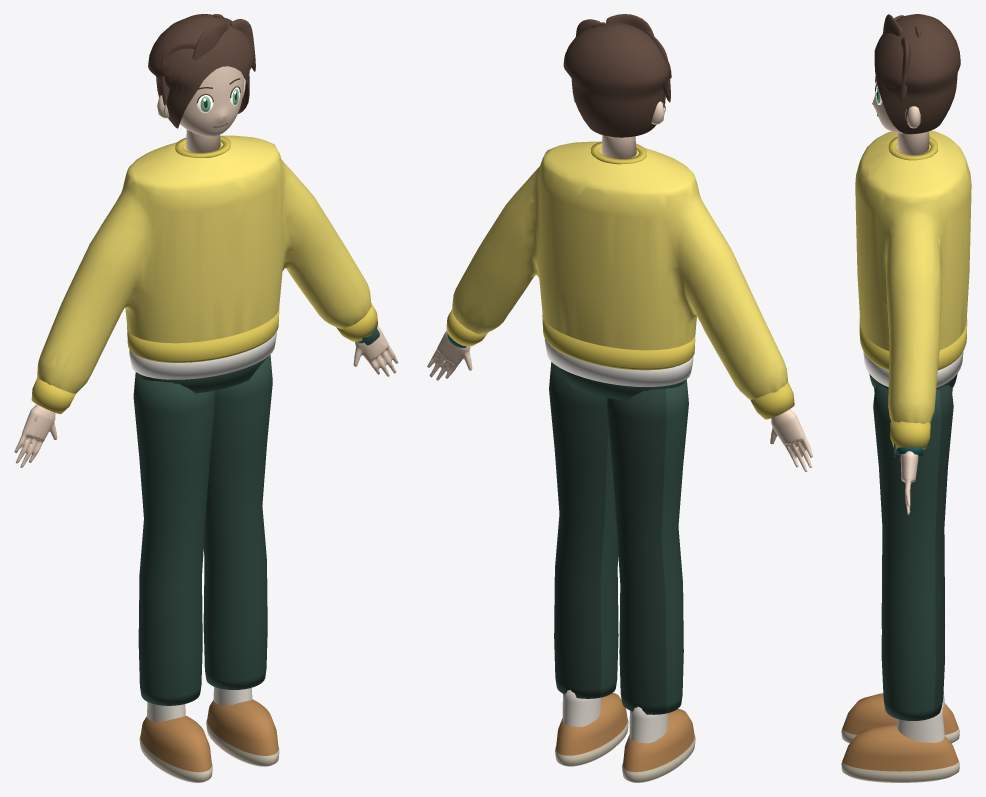
Rendered from walker-male-home-a-preview.glb.
3 renders of one model, left to right at view 1: azimuth 30°, elevation 25°; view 2: azimuth 150°, elevation 25°; view 3: azimuth 270°, elevation 25°, orthographic.
Visible parts, largest first — view 1: Outfit.Sweatshirt.ContinuousBodySleeves, Outfit.WideTrousers.-1, Outfit.WideTrousers.1, Hair.CrownAndBack, Foot.HouseMule.1, Foot.HouseMule.-1, Outfit.Sweatshirt.SoftHem, Head.FaceSculpt, Outfit.CottonInner, Hand.UnifiedFiveDigits.-1, Outfit.Trousers.Waist, Hand.UnifiedFiveDigits.1 (+3 smaller); view 2: Outfit.Sweatshirt.ContinuousBodySleeves, Outfit.WideTrousers.-1, Outfit.WideTrousers.1, Hair.CrownAndBack, Foot.HouseMule.-1, Foot.HouseMule.1, Outfit.Sweatshirt.SoftHem, Outfit.CottonInner, Hand.UnifiedFiveDigits.-1, Outfit.Trousers.Waist, Foot.Sock.-1, Foot.Sock.1 (+4 smaller); view 3: Outfit.Sweatshirt.ContinuousBodySleeves, Outfit.WideTrousers.1, Hair.CrownAndBack, Foot.HouseMule.1, Foot.HouseMule.-1, Outfit.Sweatshirt.SoftHem, Foot.Sock.1, Outfit.Sweatshirt.Cuff.1, Outfit.CottonInner, Body.Neck, Hand.UnifiedFiveDigits.1, Outfit.Sweatshirt.Collar (+4 smaller).
Part boxes in pixels (box(x1,y1,x2,y2)): Outfit.Sweatshirt.ContinuousBodySleeves: box(37, 135, 371, 393); Outfit.WideTrousers.-1: box(133, 372, 215, 705); Outfit.WideTrousers.1: box(203, 354, 272, 689); Hair.CrownAndBack: box(148, 14, 255, 128); Foot.HouseMule.1: box(206, 699, 279, 766); Foot.HouseMule.-1: box(139, 716, 212, 782); Outfit.Sweatshirt.SoftHem: box(127, 308, 279, 362); Head.FaceSculpt: box(180, 66, 244, 137); Outfit.CottonInner: box(129, 331, 276, 379); Hand.UnifiedFiveDigits.-1: box(14, 404, 57, 467); Outfit.Trousers.Waist: box(137, 357, 267, 393); Hand.UnifiedFiveDigits.1: box(353, 326, 398, 376); Outfit.Sweatshirt.ContinuousBodySleeves: box(452, 141, 787, 400); Outfit.WideTrousers.-1: box(606, 379, 688, 714); Outfit.WideTrousers.1: box(549, 362, 618, 698); Hair.CrownAndBack: box(563, 22, 671, 137); Foot.HouseMule.-1: box(622, 709, 695, 782); Foot.HouseMule.1: box(555, 693, 628, 766); Outfit.Sweatshirt.SoftHem: box(542, 315, 695, 370); Outfit.CottonInner: box(544, 338, 693, 386); Hand.UnifiedFiveDigits.-1: box(770, 409, 812, 471); Outfit.Trousers.Waist: box(554, 364, 685, 400); Foot.Sock.-1: box(629, 706, 668, 743); Foot.Sock.1: box(562, 690, 601, 726); Outfit.Sweatshirt.ContinuousBodySleeves: box(855, 130, 971, 424); Outfit.WideTrousers.1: box(873, 385, 953, 720); Hair.CrownAndBack: box(874, 14, 960, 134); Foot.HouseMule.1: box(841, 725, 959, 782); Foot.HouseMule.-1: box(841, 693, 959, 743); Outfit.Sweatshirt.SoftHem: box(859, 317, 967, 370); Foot.Sock.1: box(897, 703, 944, 742); Outfit.Sweatshirt.Cuff.1: box(890, 421, 930, 449); Outfit.CottonInner: box(863, 351, 963, 387); Body.Neck: box(897, 131, 929, 154); Hand.UnifiedFiveDigits.1: box(900, 451, 918, 515); Outfit.Sweatshirt.Collar: box(888, 136, 937, 160).
Bounding box in the file's own units: 0.9413 × 1.72 × 0.2739.
